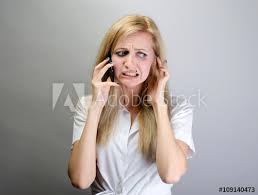phone: (106, 51, 116, 83)
talk: (91, 46, 152, 112)
